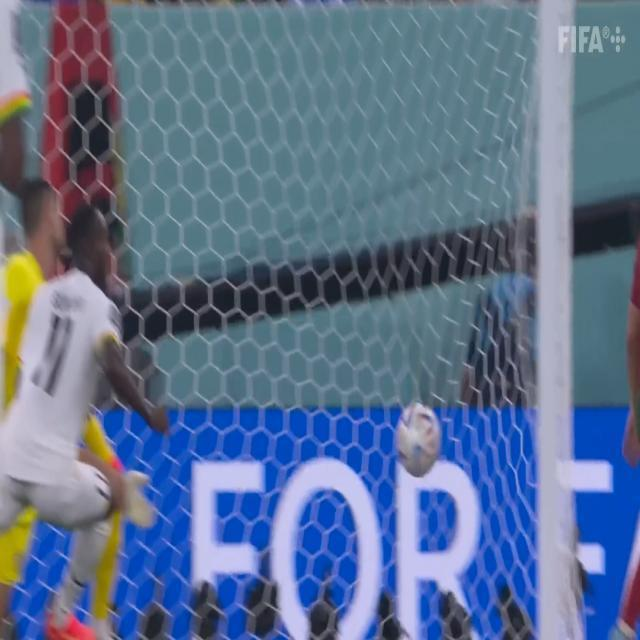football: (371, 398, 469, 486)
